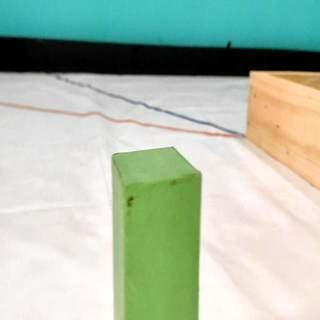greenbox: (110, 143, 206, 320)
